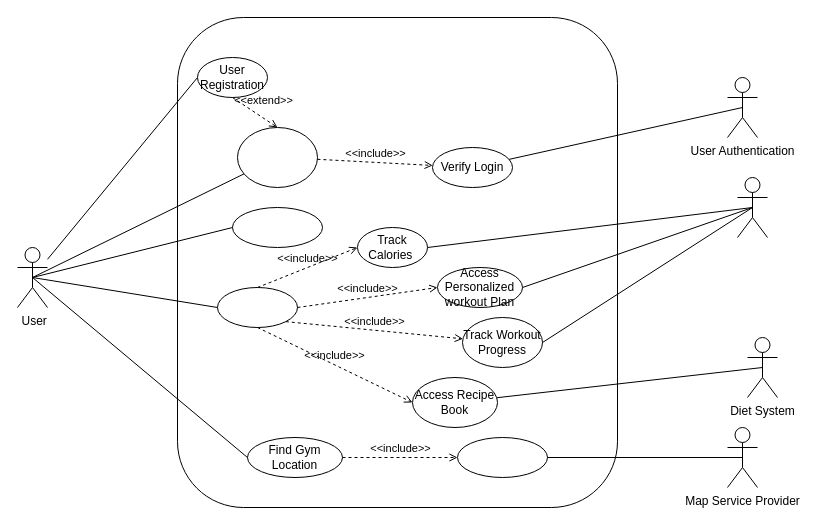
The diagram is 817 pixels wide and 526 high, and some of its shapes have lost their labels. Each missing label, with the centre of its shape:
"Book Gym Slots" goes at point 502,457.
"Login / Logout" goes at point 277,157.
"Set Fitness Goal" goes at point 257,307.
"View / Edit Personal Profile" goes at point 277,227.
"Workout System" goes at point 752,207.
